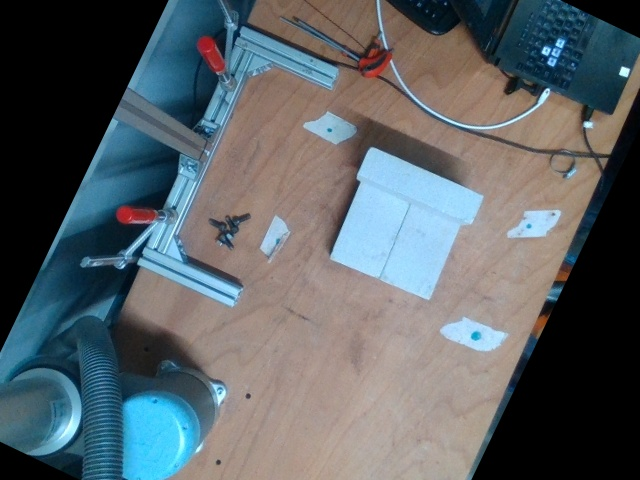brick-side: (359, 146, 483, 225)
